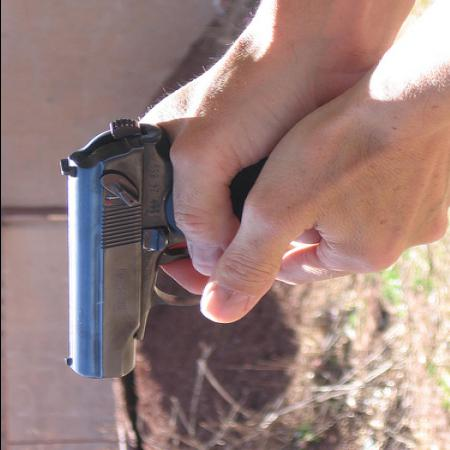Pistol: (59, 119, 269, 381)
